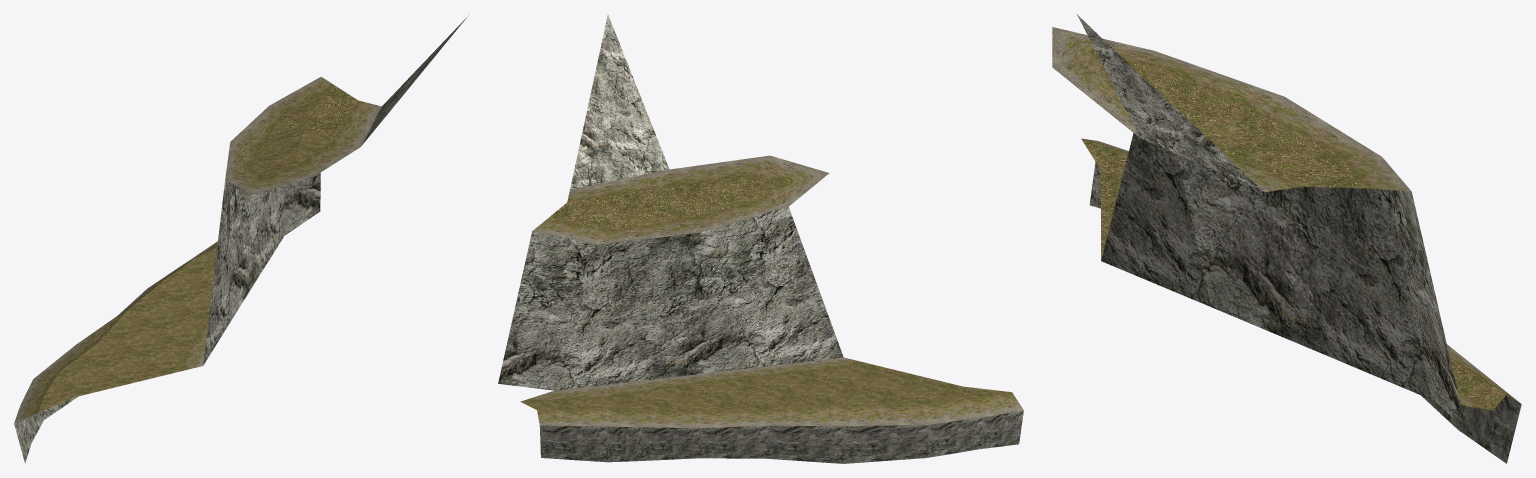
File: cs_landbit_05.obj
3 views of the same model, side by side, from view 1: azimuth 30°, elevation 25°; view 2: azimuth 150°, elevation 25°; view 3: azimuth 270°, elevation 25° (orthographic). The views are drawn at different scales.
Visible parts, largest first — view 1: cs_landbit_05; view 2: cs_landbit_05; view 3: cs_landbit_05.
Part boxes in pixels (x1,y1,x2,y2): cs_landbit_05: [14, 14, 469, 463]; cs_landbit_05: [498, 14, 1023, 463]; cs_landbit_05: [1052, 14, 1521, 463].
Size of the model in its own units: 217 by 162 by 134.
